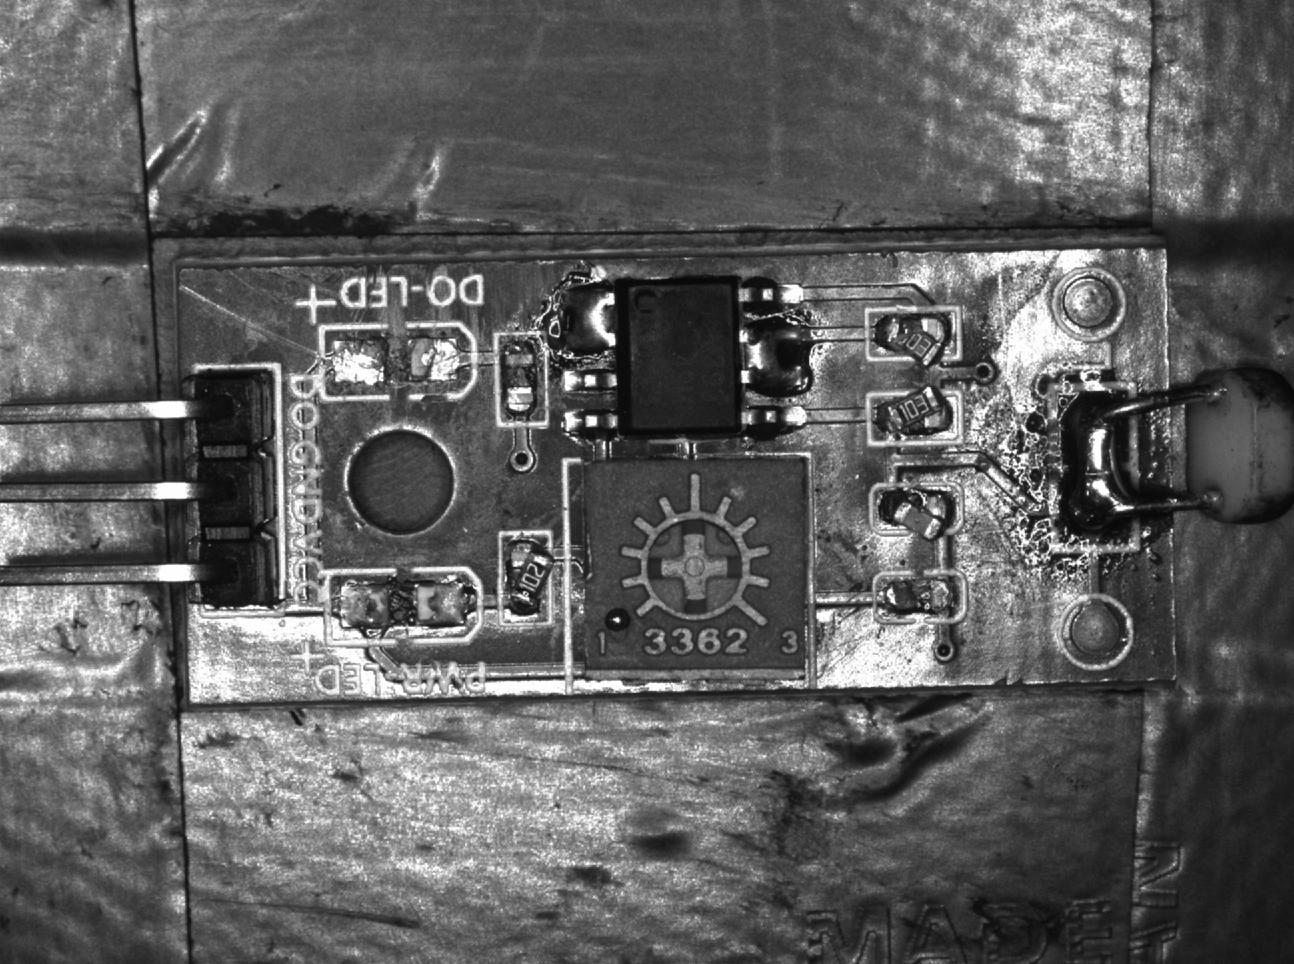bridge: (1056, 390, 1139, 541), (740, 319, 815, 401), (559, 282, 617, 364)
lifted: (868, 308, 959, 370), (869, 485, 963, 542), (502, 533, 556, 624), (869, 388, 958, 443)
miss: (495, 330, 545, 428), (875, 571, 968, 621)
